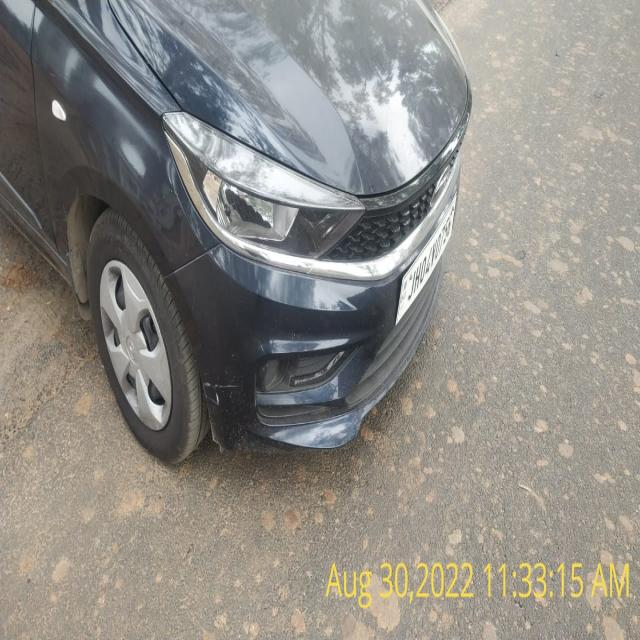damage: (202, 371, 240, 420)
